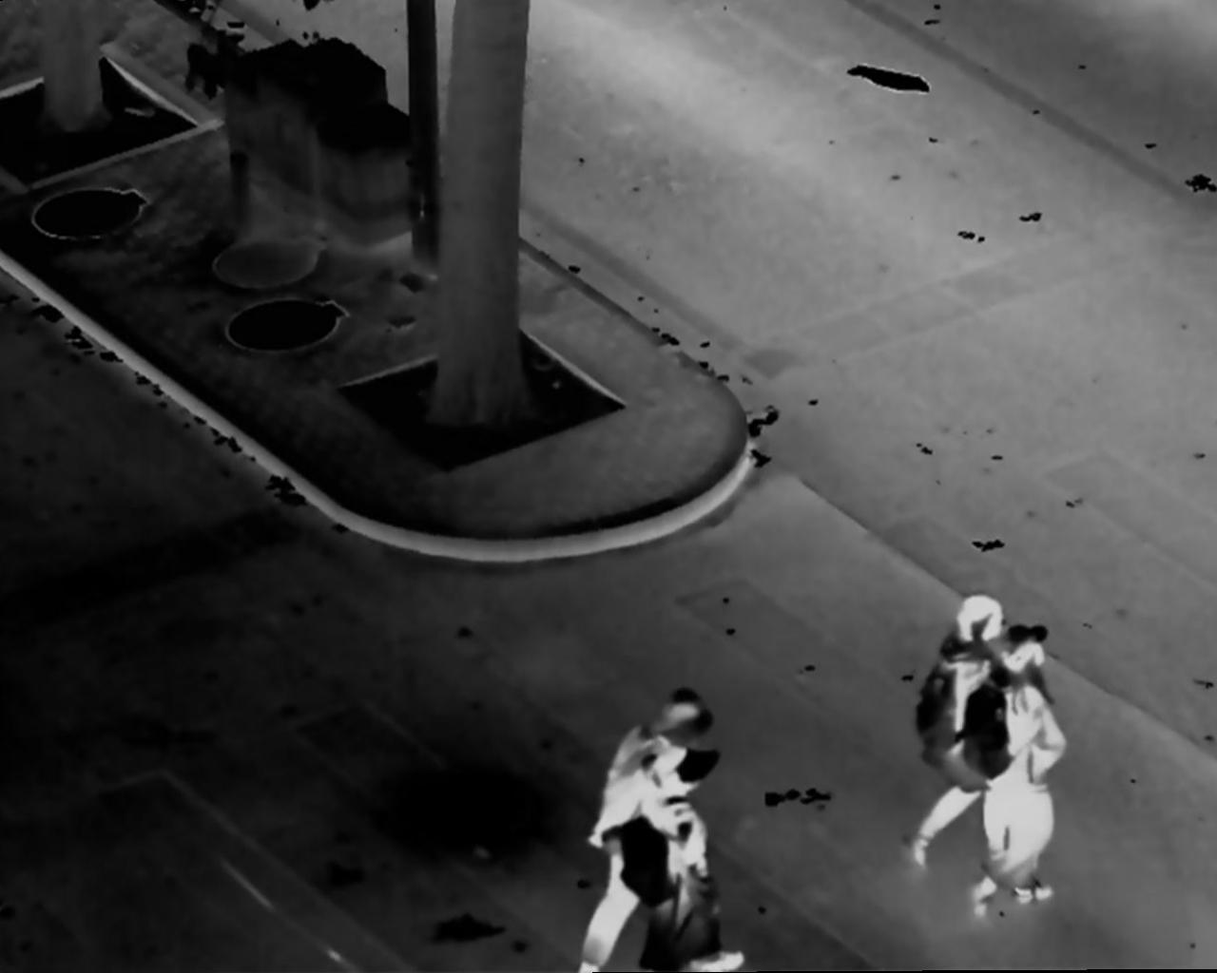person: (583, 688, 724, 973), (906, 578, 1009, 873), (618, 747, 741, 973), (976, 618, 1068, 917)
